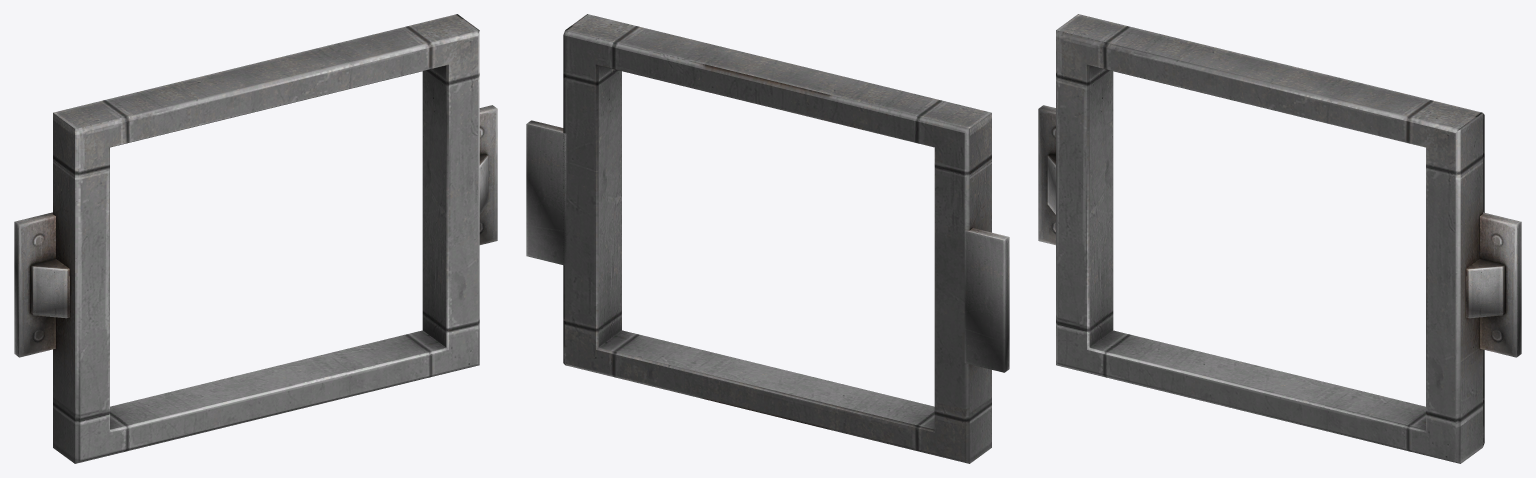
File: air_vent_frame.dae
The picture shows the model from 3 angles, left to right: view 1: azimuth 30°, elevation 25°; view 2: azimuth 150°, elevation 25°; view 3: azimuth 330°, elevation 25°; orthographic projection.
Visible parts, largest first — view 1: door_hatch_slide_ventilation; view 2: door_hatch_slide_ventilation; view 3: door_hatch_slide_ventilation.
Part boxes in pixels (bbox=[...]): door_hatch_slide_ventilation: bbox=[14, 14, 497, 463]; door_hatch_slide_ventilation: bbox=[526, 14, 1009, 463]; door_hatch_slide_ventilation: bbox=[1038, 14, 1521, 463].
Bounding box in the file's own units: 1.77 × 1.19 × 0.166.
